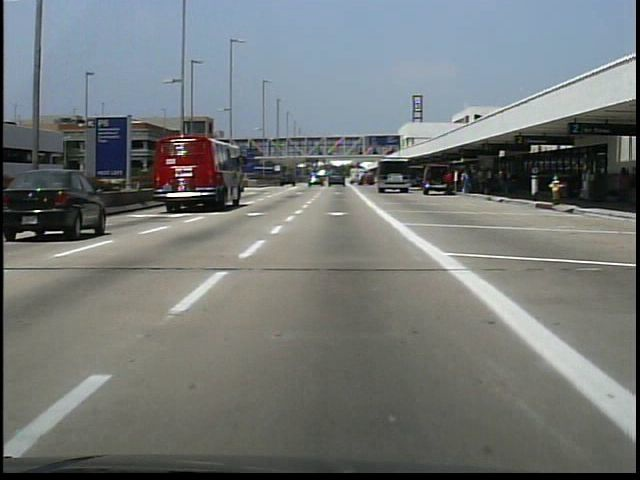person: (442, 168, 457, 201)
